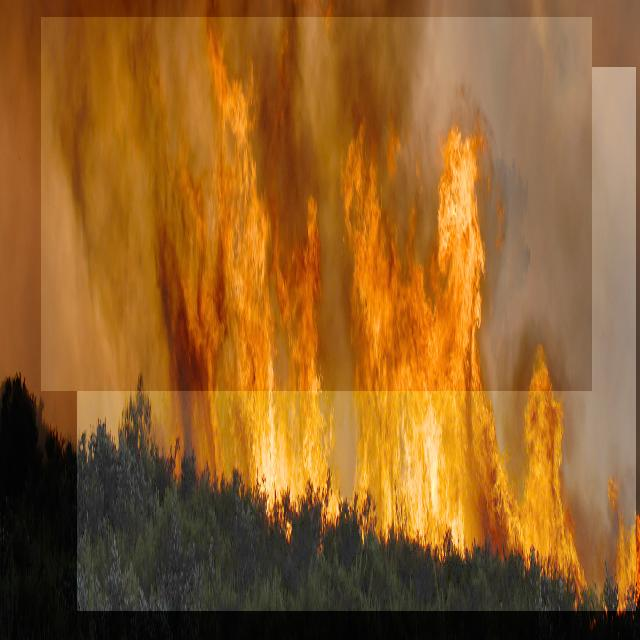Fire: (77, 68, 636, 612)
Smoke: (41, 17, 592, 391)
